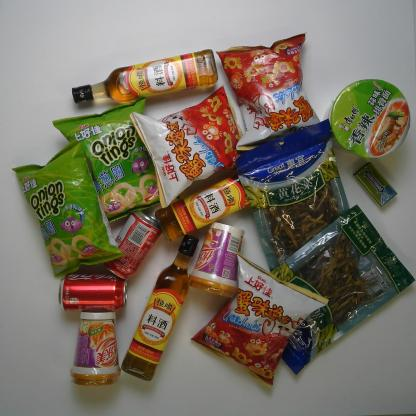Dried Food: (261, 204, 415, 377), (236, 119, 355, 278)
Drink: (106, 210, 160, 280), (57, 271, 129, 314)
Gum: (354, 162, 397, 207)
Instant Drink: (187, 219, 247, 297), (70, 307, 122, 386)
Instant Noodles: (324, 78, 411, 159)
Puffed Food: (192, 251, 330, 398), (130, 85, 251, 210), (13, 141, 122, 278), (52, 97, 164, 223), (216, 33, 322, 151)
Seasoner: (121, 236, 200, 379), (69, 48, 218, 108), (156, 174, 260, 242)
